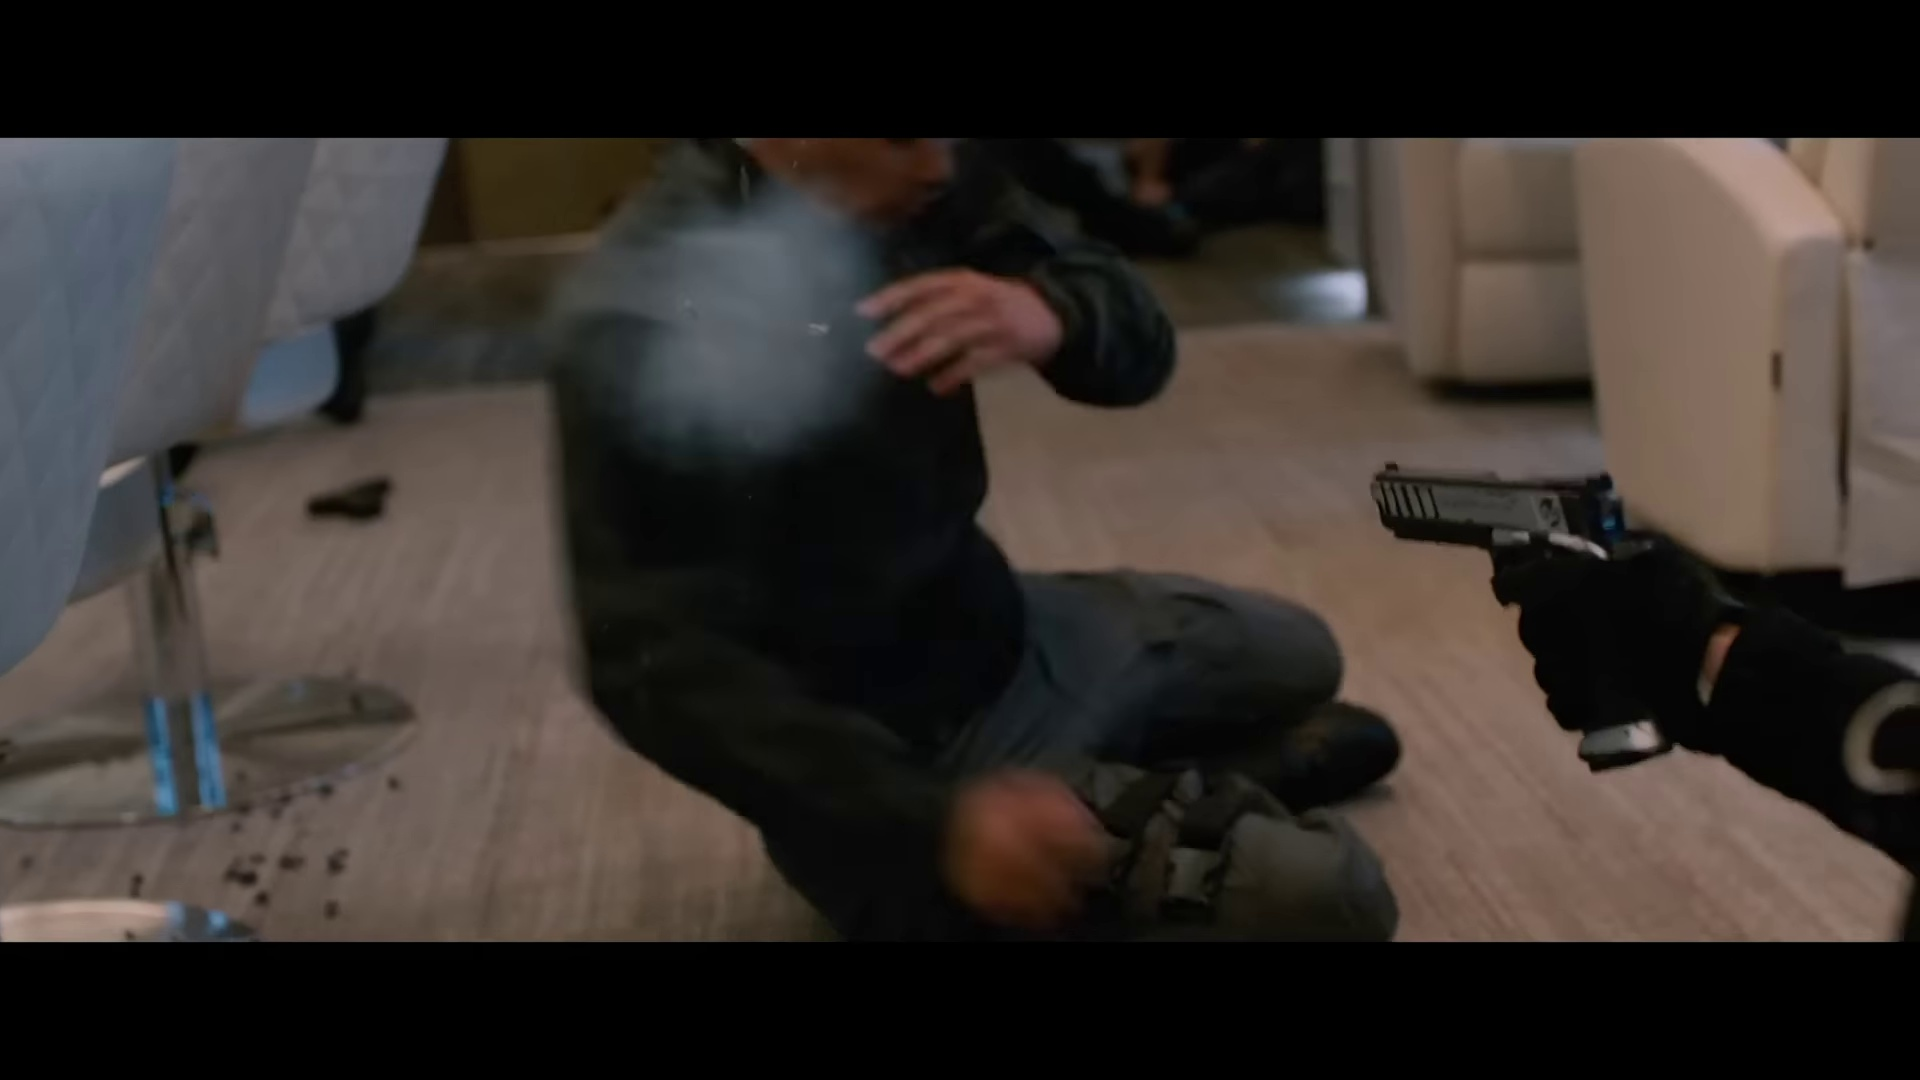gun: (1358, 439, 1679, 781)
p_w_gun: (1365, 448, 1920, 869)
p_wo_gun_not_carrying_normal_pose: (526, 121, 1415, 931)
